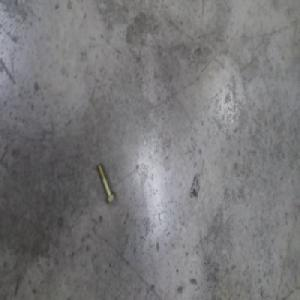Bolt: (96, 161, 116, 206)
